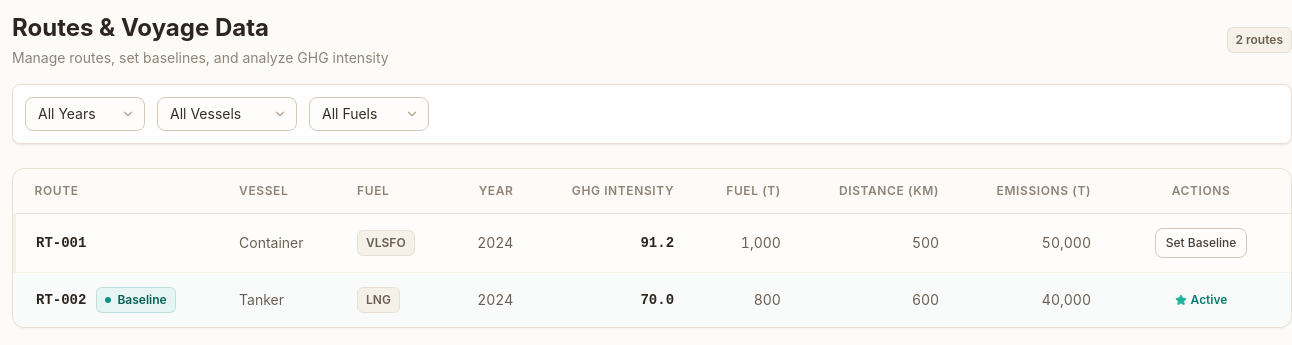
Test: RoutesTab › filters routes by vessel type
Expected: the text "RT-001" is shown, [36, 233, 86, 253]
// Filter by Container (RT-001 is Container, RT-002 is Tanker)
Select "Container" in the dropdown named "Filter by vessel type" at (227, 114), box [157, 97, 297, 131]
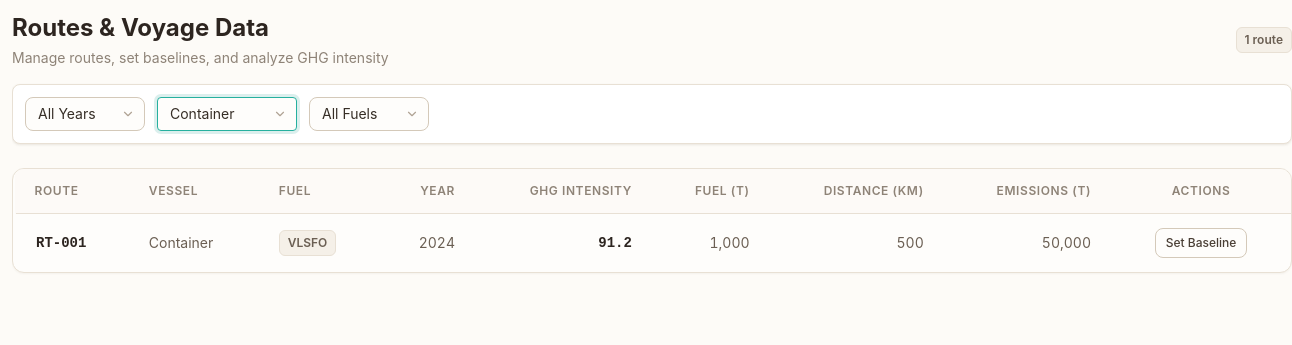
Expected: the text "RT-001" is shown, [36, 233, 86, 253]
Expected: the text "RT-002" is gone
